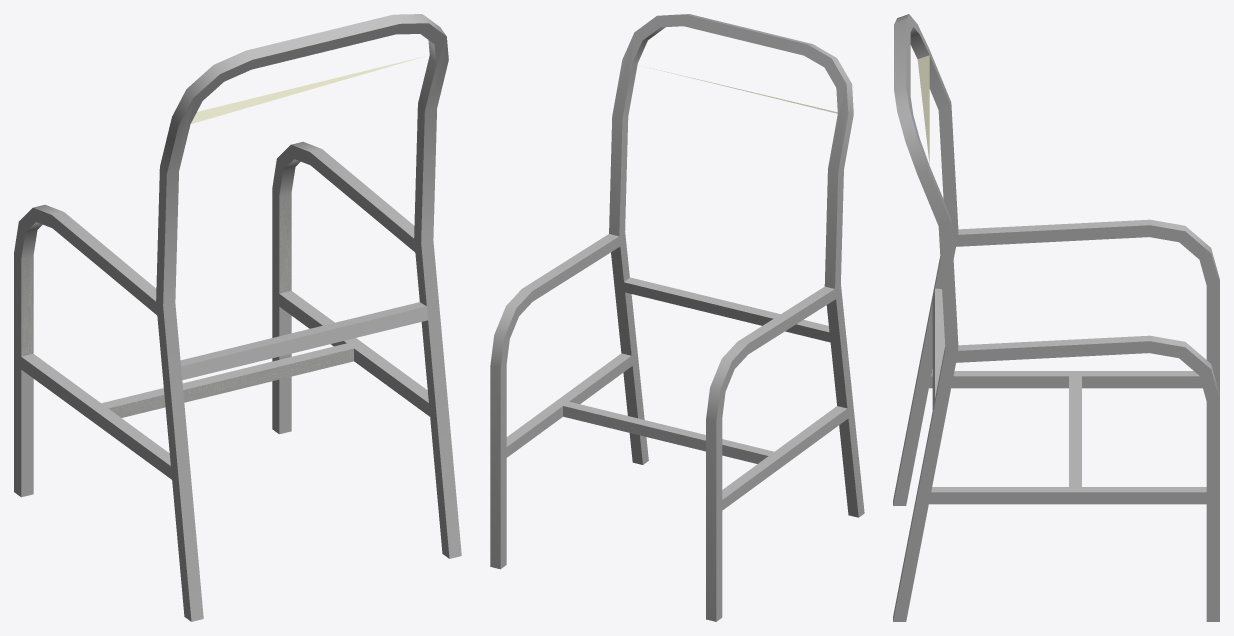
3 views of the same model, side by side, from view 1: azimuth 30°, elevation 25°; view 2: azimuth 150°, elevation 25°; view 3: azimuth 270°, elevation 25° (orthographic). The views are drawn at different scales.
Visible parts, largest first — view 1: mesh1_mesh1-geometry, mesh2_mesh2-geometry, mesh4_mesh4-geometry; view 2: mesh2_mesh2-geometry, mesh1_mesh1-geometry; view 3: mesh2_mesh2-geometry, mesh1_mesh1-geometry, mesh4_mesh4-geometry.
Boxes of the visible parts, x1,y1,x2,y2 form: mesh1_mesh1-geometry: (14, 32, 325, 621); mesh2_mesh2-geometry: (224, 14, 461, 558); mesh4_mesh4-geometry: (191, 56, 424, 123); mesh2_mesh2-geometry: (490, 14, 749, 569); mesh1_mesh1-geometry: (666, 29, 864, 621); mesh2_mesh2-geometry: (893, 53, 1219, 621); mesh1_mesh1-geometry: (893, 14, 1219, 505); mesh4_mesh4-geometry: (917, 55, 929, 163).
Bounding box in the file's own units: 0.4053 × 0.7897 × 0.4606.
